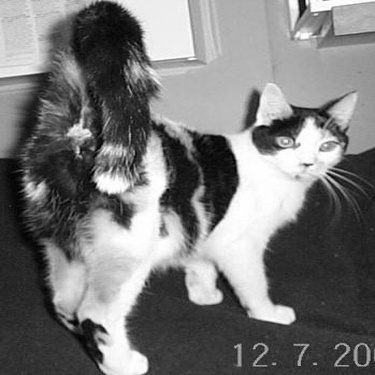cat: (19, 1, 357, 373)
